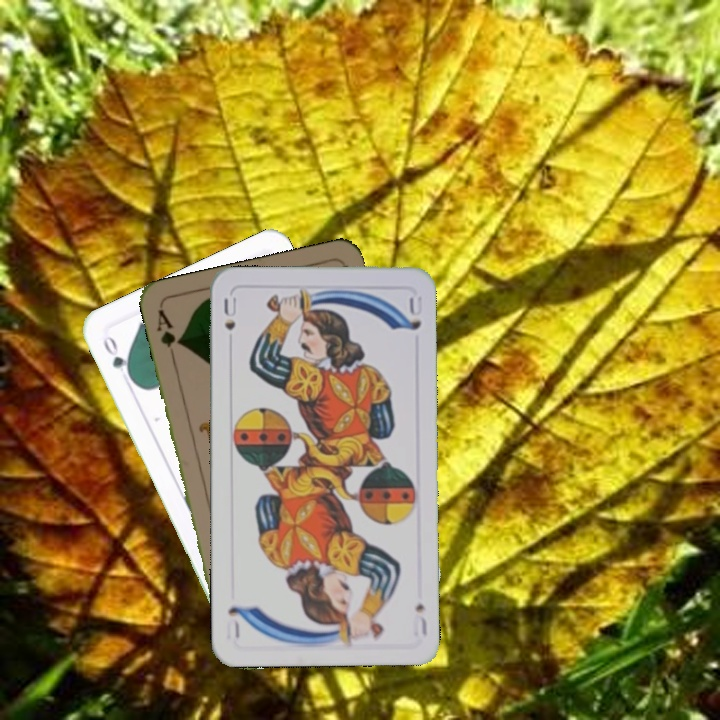GA: (152, 305, 184, 363)
GO: (98, 332, 136, 384)
SU: (409, 600, 430, 639), (220, 292, 239, 332)
